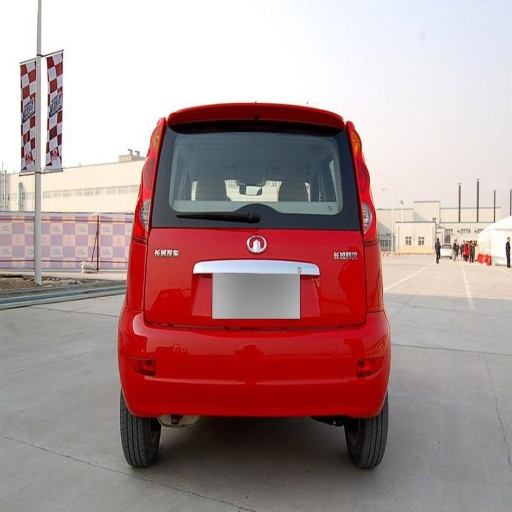back_bumper: (122, 277, 393, 415)
trunk: (140, 222, 368, 376)
